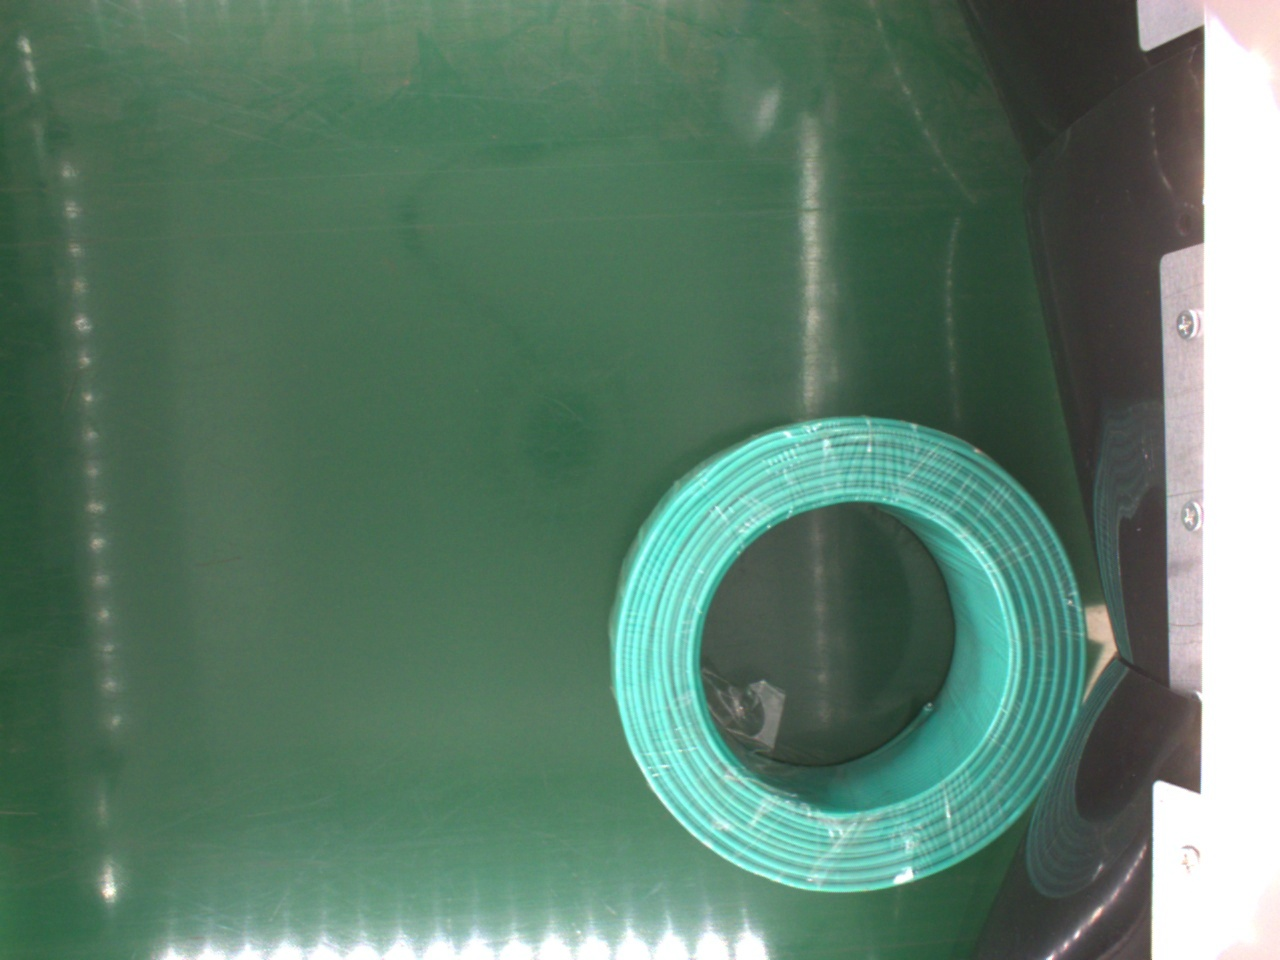green: (600, 414, 1092, 895)
